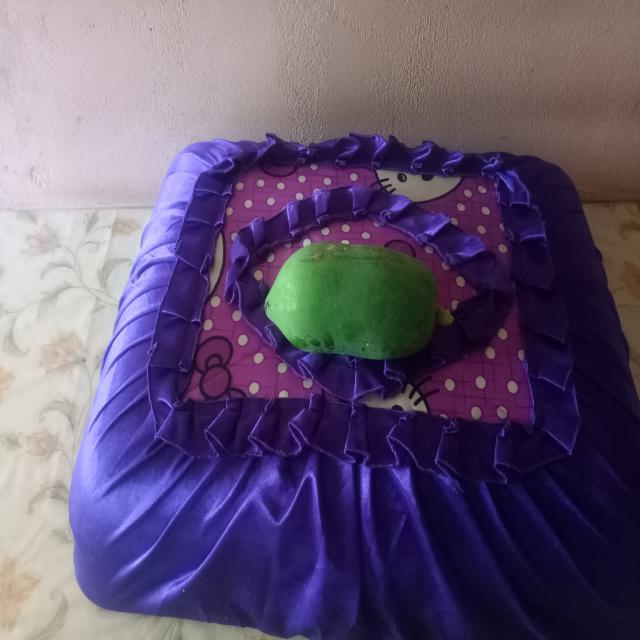Pepaya unrippen: (258, 234, 445, 380)
